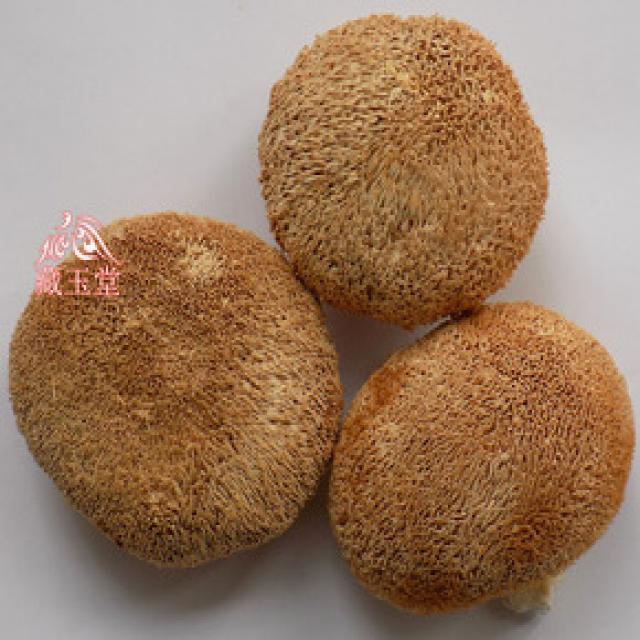Hericium erinaceus: (8, 214, 338, 568), (333, 305, 635, 617), (264, 15, 548, 327)
